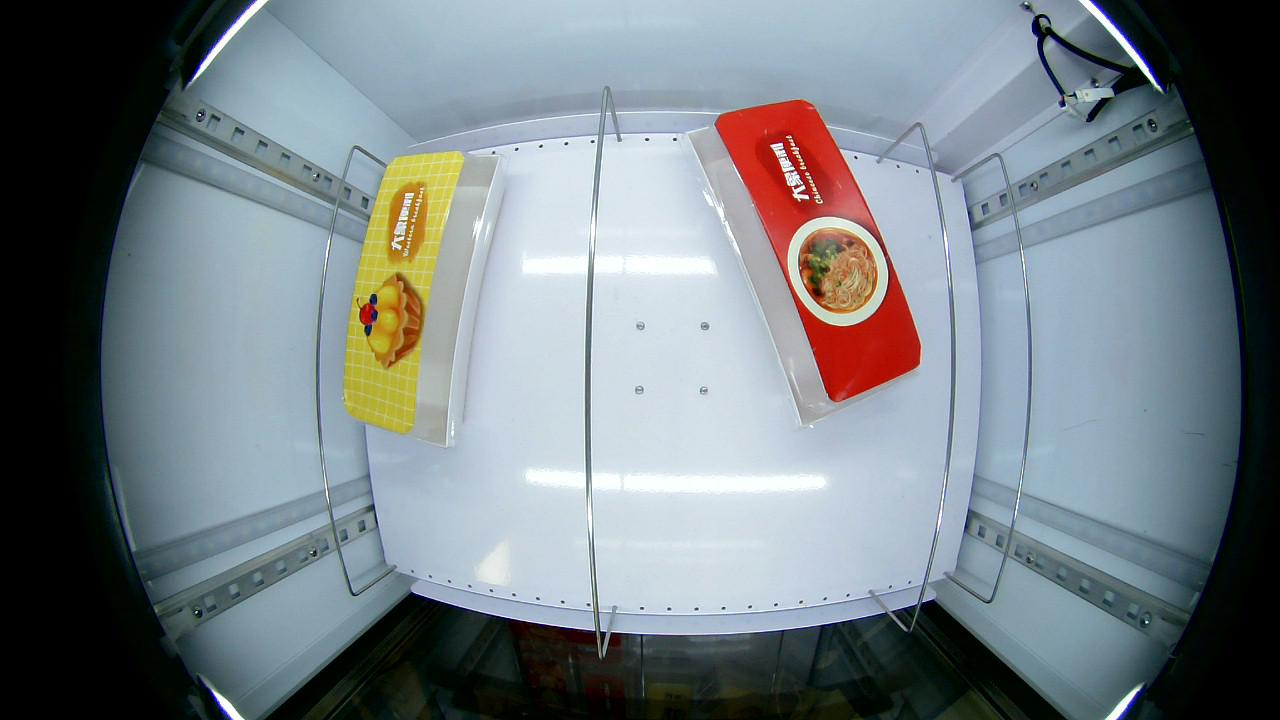goods: (793, 214, 892, 329), (354, 273, 424, 362)
